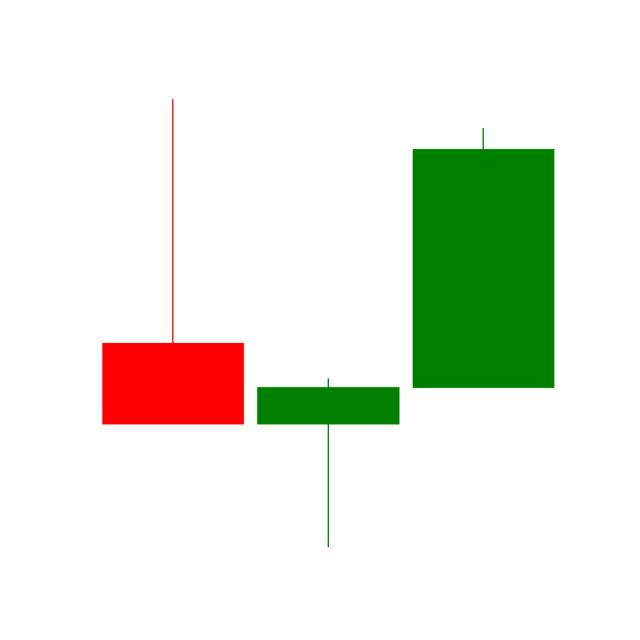Hammer: (249, 376, 406, 550)
